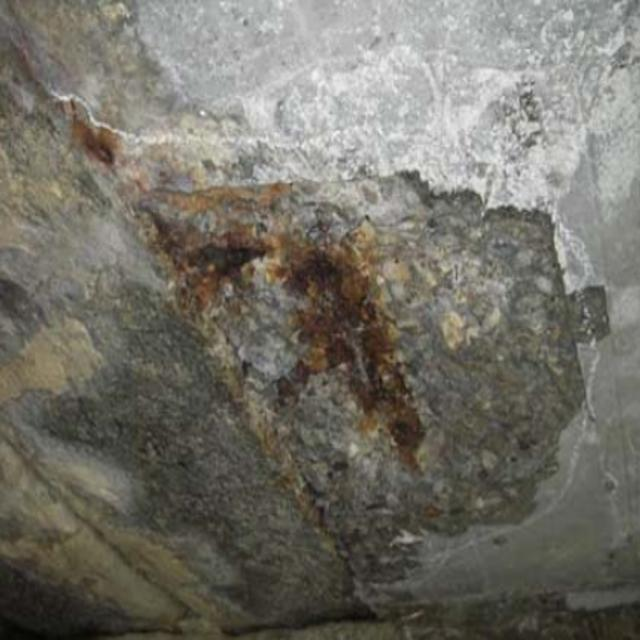spalling: (13, 47, 610, 624)
